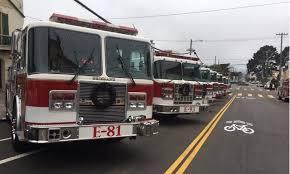special: (6, 15, 159, 151), (154, 49, 199, 121)
